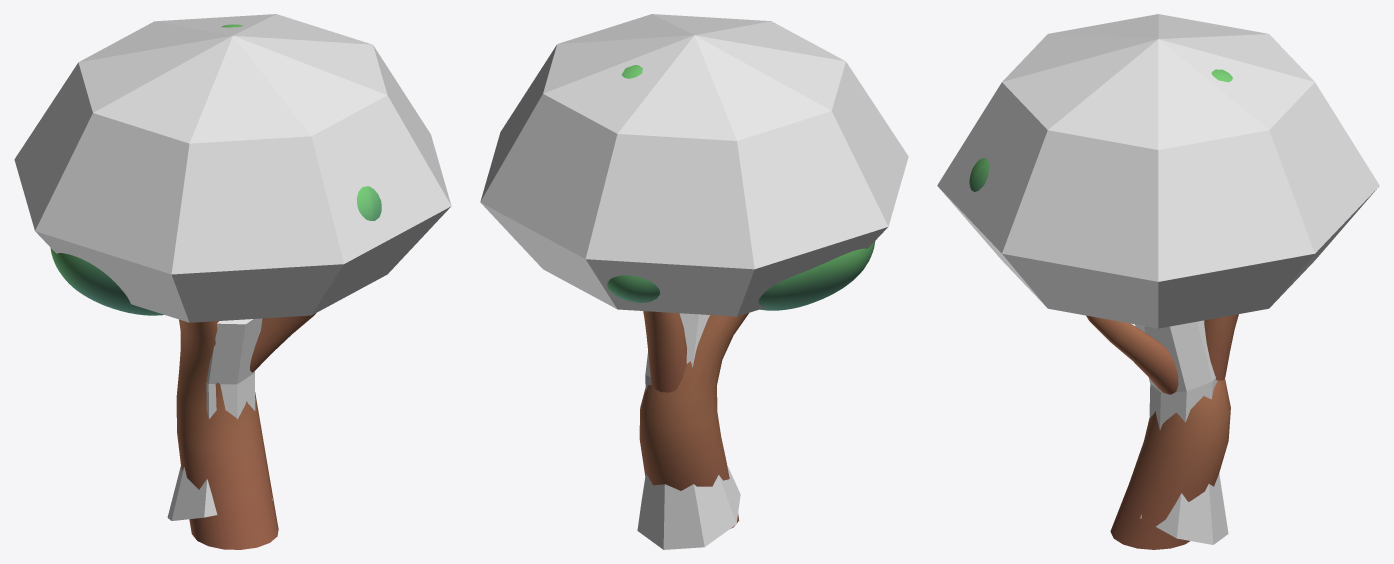
File: Tree2.glb
The picture shows the model from 3 angles, left to right: view 1: azimuth 30°, elevation 25°; view 2: azimuth 150°, elevation 25°; view 3: azimuth 270°, elevation 25°; orthographic projection. The views are drawn at different scales.
Visible parts, largest first — view 1: colision-colonly.015, Tree2; view 2: colision-colonly.015, Tree2; view 3: colision-colonly.015, Tree2.
Boxes of the visible parts, x1,y1,x2,y2 form: colision-colonly.015: (14,14,451,520); Tree2: (50,24,381,549); colision-colonly.015: (480,14,908,549); Tree2: (607,65,875,528); colision-colonly.015: (937,14,1379,544); Tree2: (969,69,1238,549).
Bounding box in the file's own units: 2.82 × 3.39 × 2.74.
Materials: 1 (1 with a texture image).
